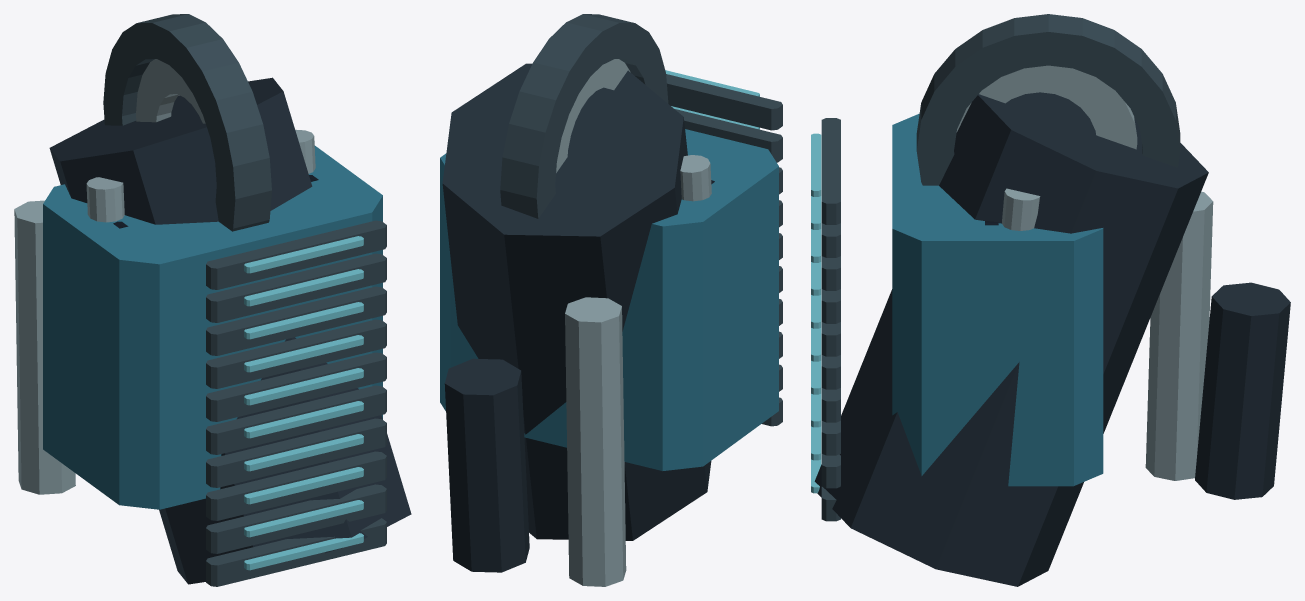
Rendered from enemy_marksman_4k_thigh_r.obj.
3 renders of one model, left to right at view 1: azimuth 30°, elevation 25°; view 2: azimuth 150°, elevation 25°; view 3: azimuth 270°, elevation 25°, orthographic.
Size of the model in its own units: 0.3939 by 0.6852 by 0.5678.
